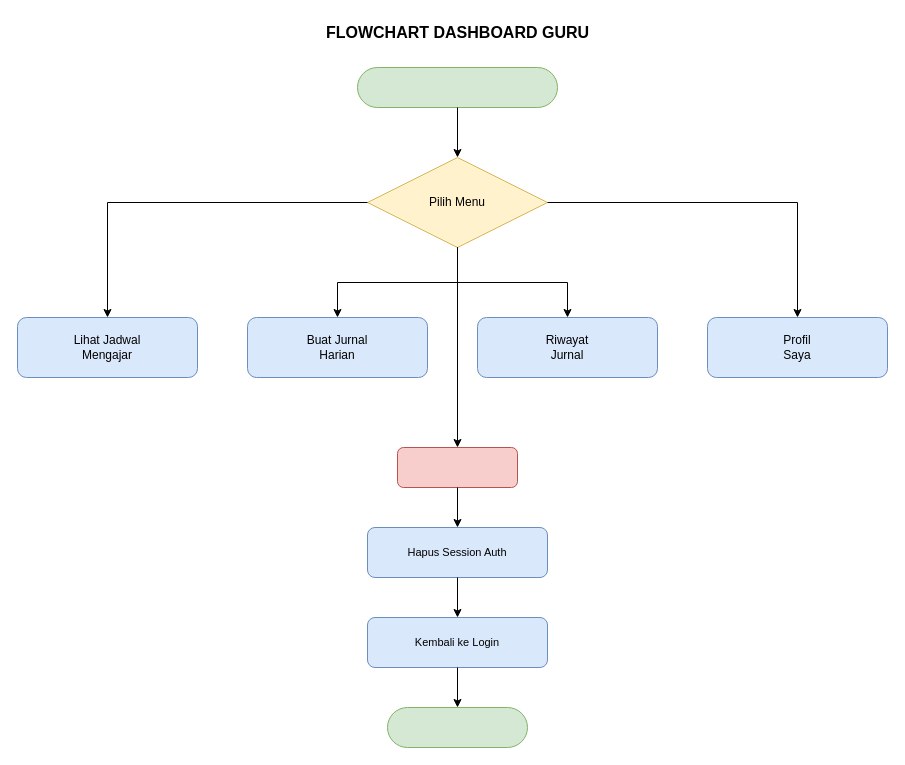
The diagram is 905 pixels wide and 765 high, and some of its shapes have lost their labels. The box of each missing label's shape, as (x1, y1, x2, y2) in pixels:
Dashboard Guru: (356, 66, 558, 108)
End: (386, 706, 528, 748)
Logout: (396, 446, 518, 488)
